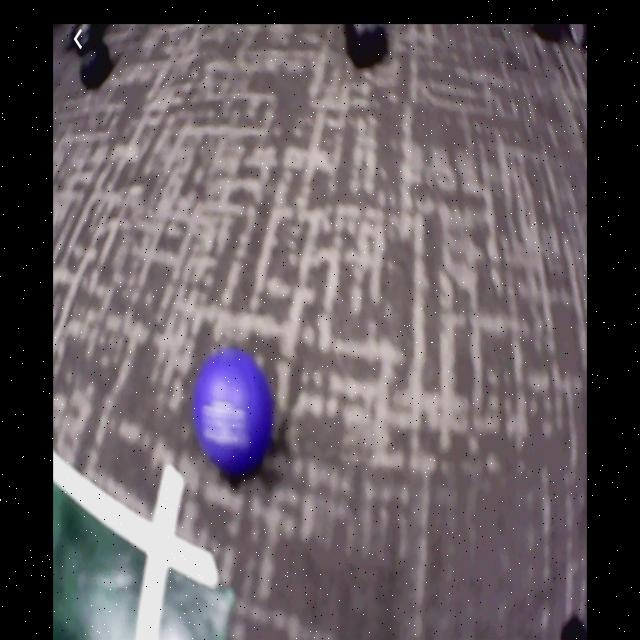ball: (195, 349, 272, 475)
